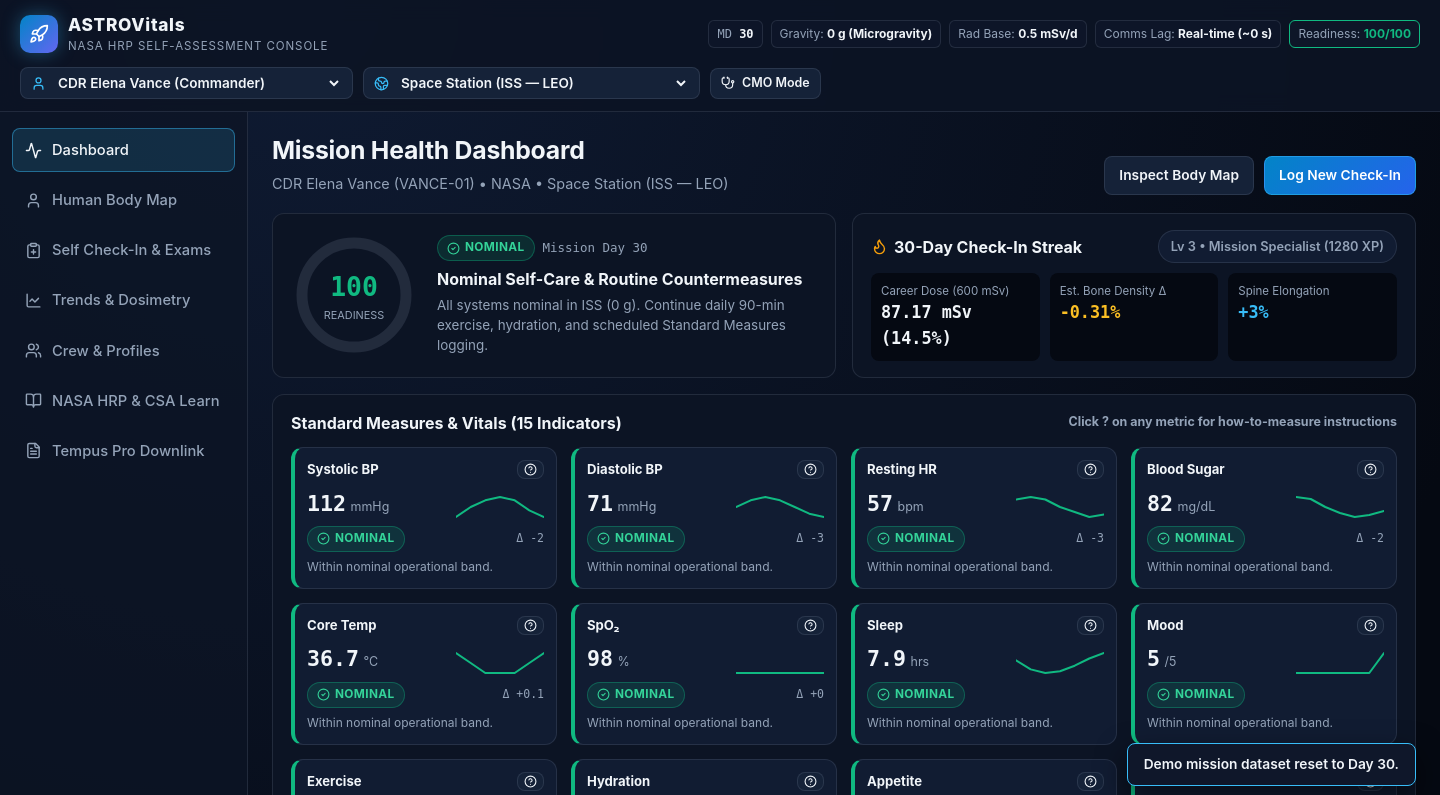
Test: AstroVitals UI integration › runs Check-In scenario and adapts escalation wording between ISS and Mars Base
Click the link "Self Check-In & Exams" at (118, 250), box [25,241,211,259]
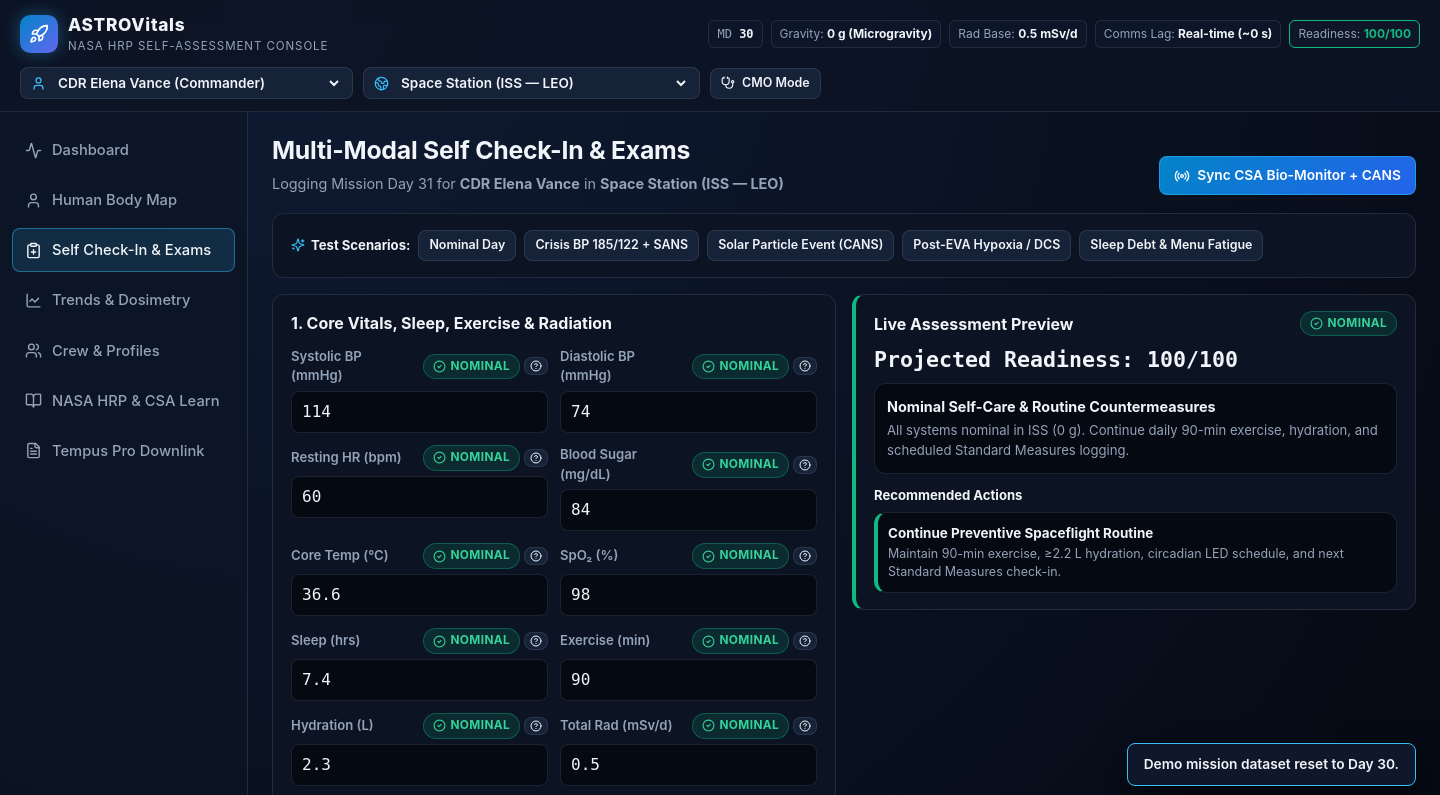
Click the button "Crisis BP 185/122 + SANS" at (612, 245), box [524,230,699,261]
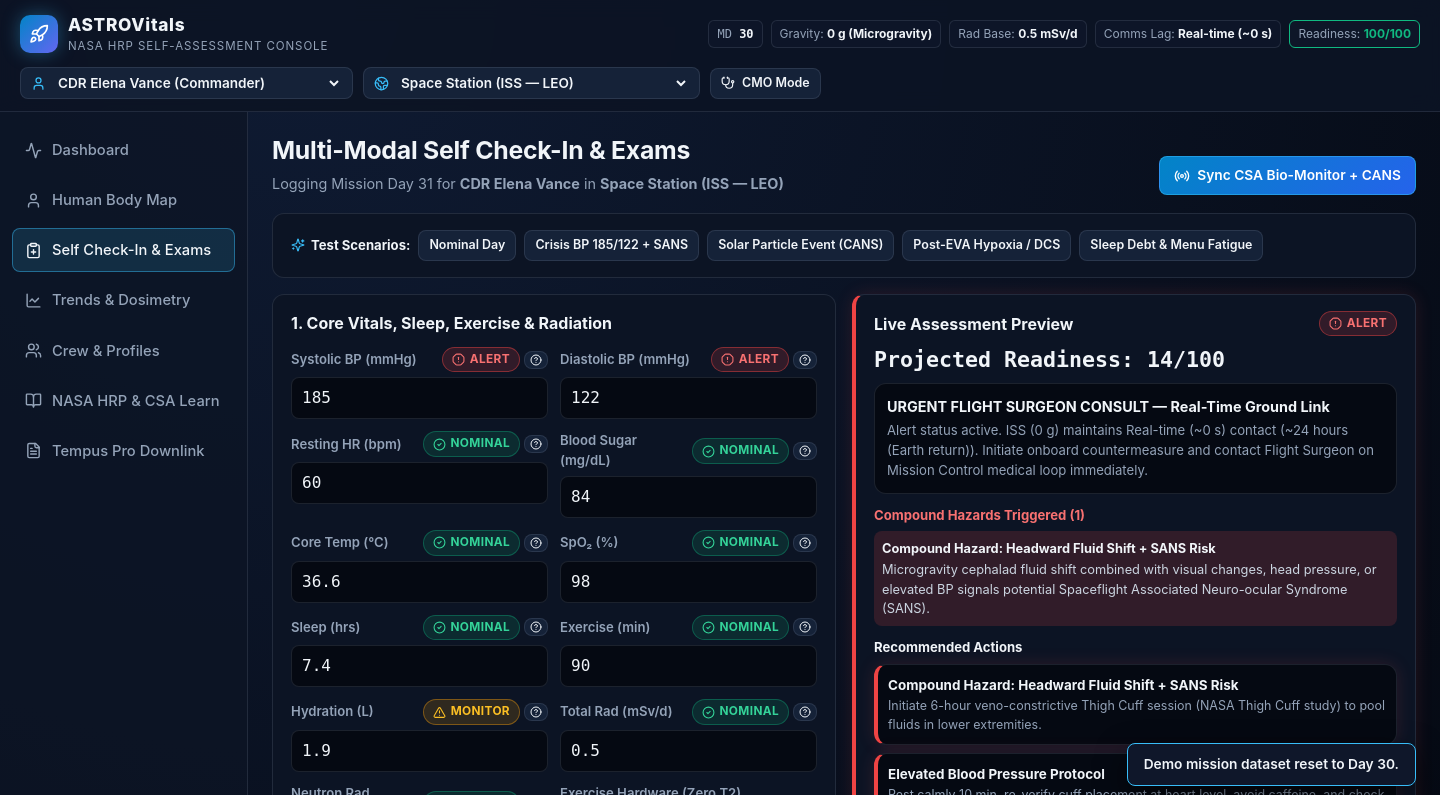
Check: the text "URGENT FLIGHT SURGEON CONSULT — Real-Time Ground Link" is shown, box [887,396,1384,418]
Select "Mars Base (Surface Habitat)" in the dropdown named "Mission Environment" at (543, 83), box [397,74,689,92]
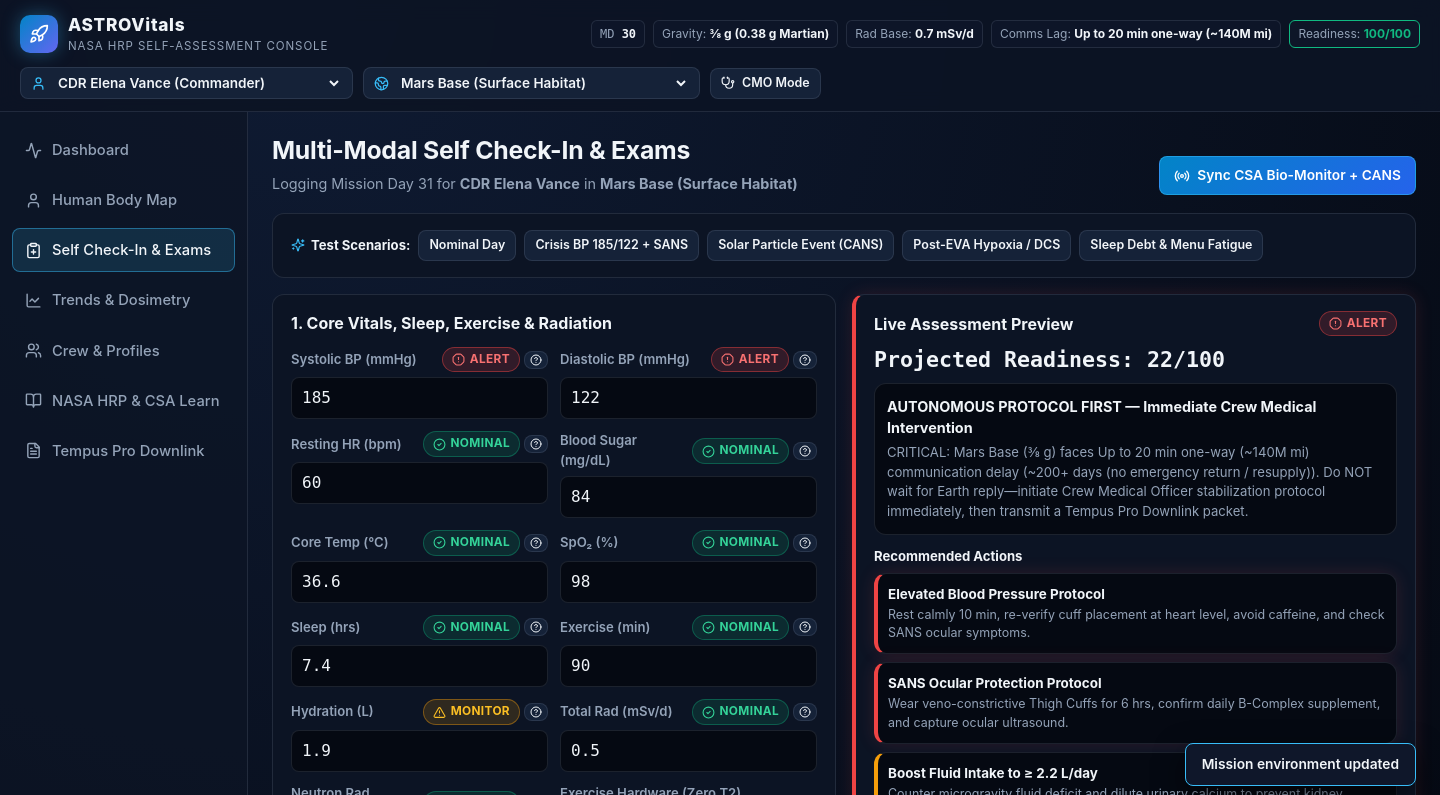
Check: the text "AUTONOMOUS PROTOCOL FIRST" is shown, box [887,398,1316,436]
